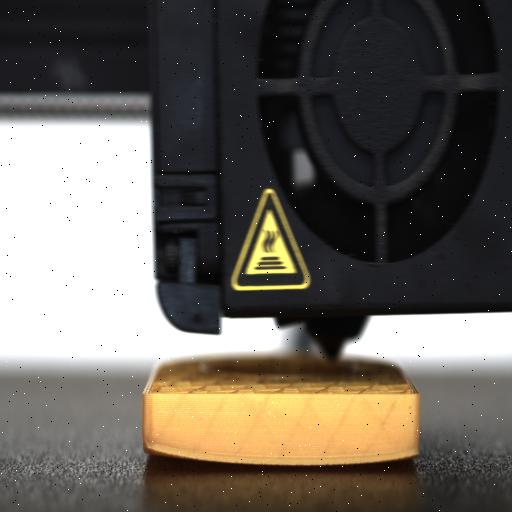warp: (348, 436, 426, 474), (136, 427, 206, 467)
